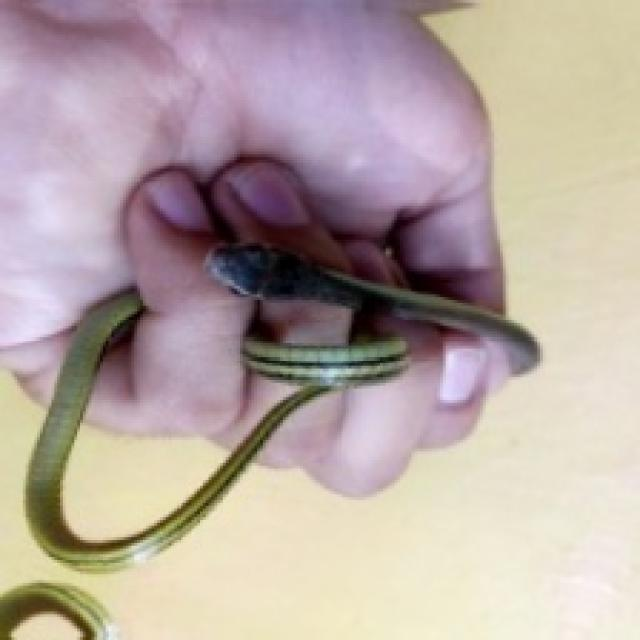luzon bronzeback treesnake: (26, 291, 406, 569), (206, 243, 537, 371)
